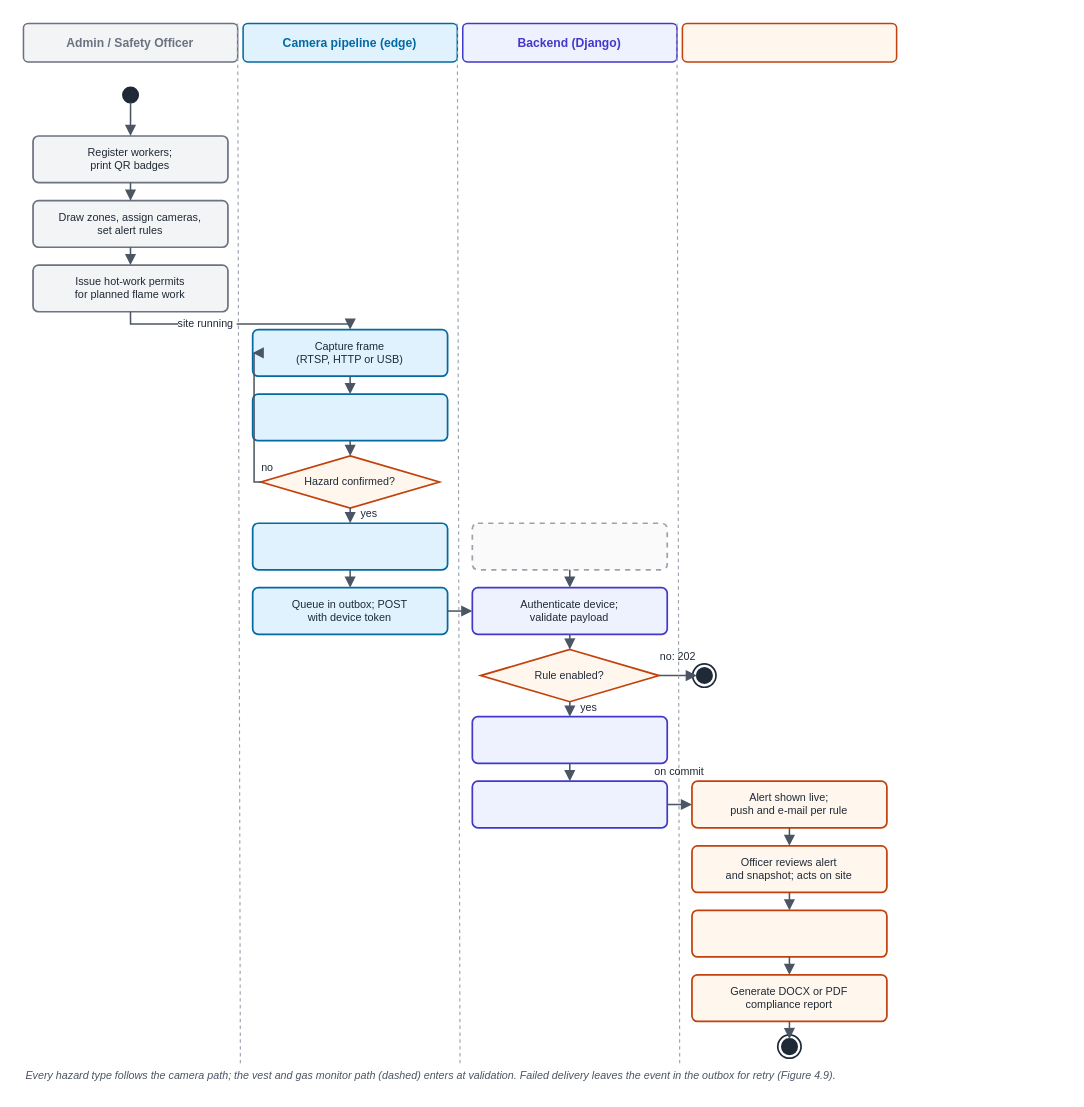
Image size: 1084x1107. Some labels were removed from this diagram. The centre of each missing label's shape, as x and y in pixels:
"Attach badge identity, confidence, model, snapshot" belongs at pixel 349 546.
"Resolve alert (all sessions update)" belongs at pixel 788 933.
"Run PPE, person/vehicle, pose, QR and fire models" belongs at pixel 349 417.
"Set severity; FIRE/SMOKE checks hot-work permit" belongs at pixel 569 739.
"Store alert once per event; update attendance" belongs at pixel 569 804.
"Vest and gas monitor telemetry (Figure 4.8)" belongs at pixel 569 546.
"Web and mobile clients" belongs at pixel 789 42.
